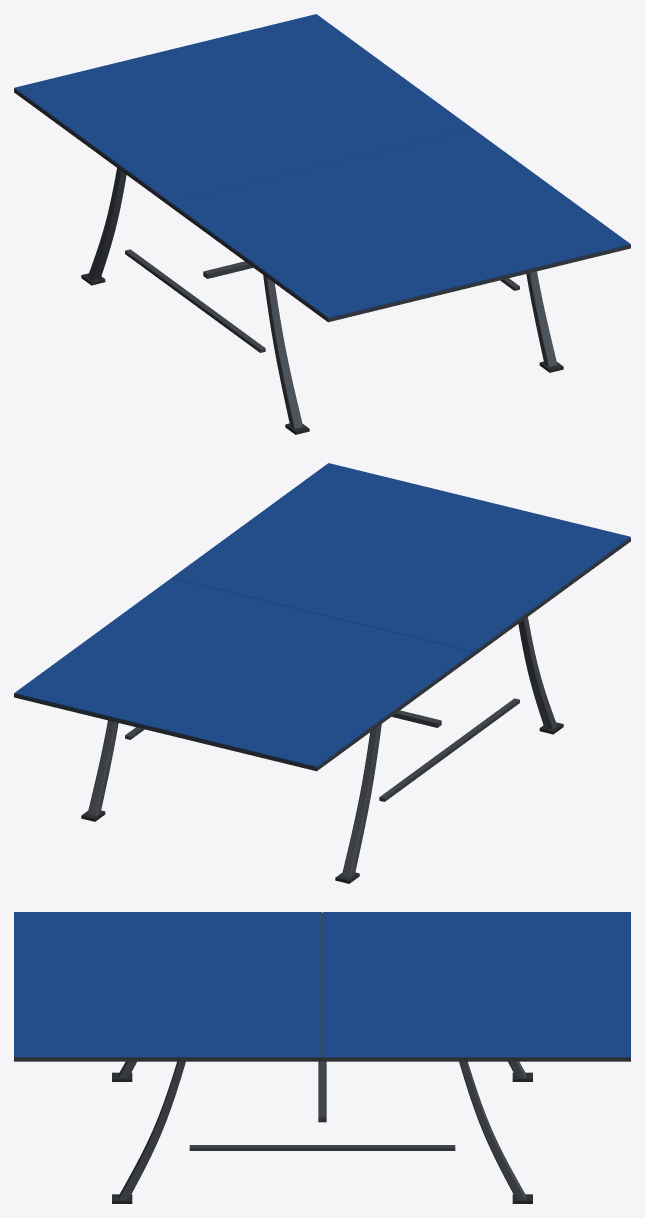
The model's file is ittf_table.glb.
The picture shows the model from 3 angles, top to bottom: view 1: azimuth 30°, elevation 25°; view 2: azimuth 150°, elevation 25°; view 3: azimuth 270°, elevation 25°; orthographic projection.
Visible parts, largest first — view 1: half, half.001, edge_body, leg.001, leg, tie, leg.003; view 2: half.001, half, edge_body, leg, leg.001, tie, leg.002; view 3: half, half.001, edge_body, tie.001, leg.002, leg.003, spine.
Boxes of the visible parts, <box> form: half: <box>171,129,630,318</box>; half.001: <box>14,14,472,203</box>; edge_body: <box>14,88,630,322</box>; leg.001: <box>263,275,302,428</box>; leg: <box>87,168,126,280</box>; tie: <box>125,249,265,352</box>; leg.003: <box>526,271,557,366</box>; half.001: <box>14,578,473,767</box>; half: <box>172,463,630,652</box>; edge_body: <box>14,537,630,771</box>; leg: <box>342,724,381,877</box>; leg.001: <box>518,617,557,729</box>; tie: <box>379,698,519,801</box>; leg.002: <box>87,720,118,815</box>; half: <box>14,912,321,1057</box>; half.001: <box>323,912,630,1057</box>; edge_body: <box>14,912,630,1061</box>; tie.001: <box>189,1145,455,1150</box>; leg.002: <box>459,1061,526,1199</box>; leg.003: <box>118,1061,185,1199</box>; spine: <box>318,1061,326,1122</box>.
Size of the model in its own units: 1.53 by 0.76 by 2.74.
